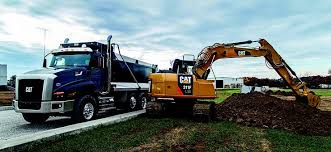excavator: (147, 39, 322, 125)
truck: (12, 37, 158, 119)
